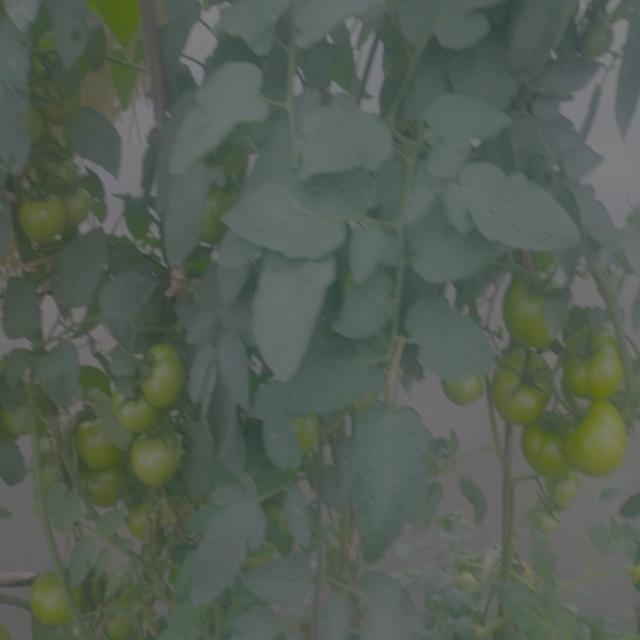tomato: (499, 273, 567, 350), (573, 404, 632, 488), (495, 350, 559, 426), (568, 336, 631, 404), (135, 341, 191, 407), (15, 181, 65, 250), (131, 429, 182, 495), (30, 566, 78, 631), (69, 417, 126, 471), (523, 422, 573, 480), (441, 361, 488, 412), (197, 187, 235, 243), (99, 595, 145, 640), (80, 471, 126, 511), (583, 16, 621, 64), (288, 403, 320, 453), (126, 506, 161, 547), (67, 186, 98, 231), (3, 398, 33, 444), (118, 395, 155, 431), (245, 542, 284, 575), (458, 563, 487, 603), (538, 507, 568, 535), (185, 252, 211, 283), (549, 482, 580, 506)
